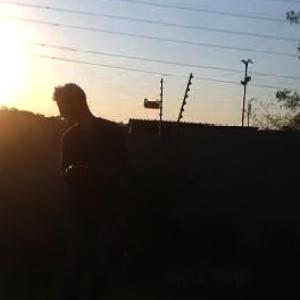follow: (46, 81, 136, 299)
